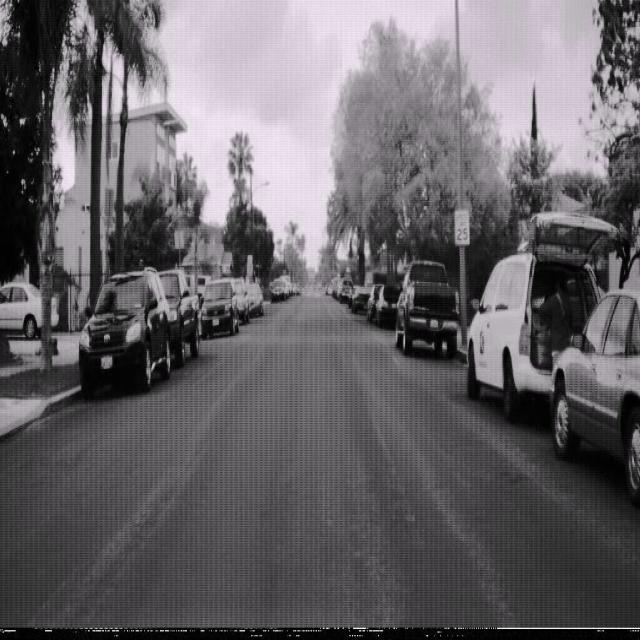speedLimit25: (453, 208, 470, 246)
